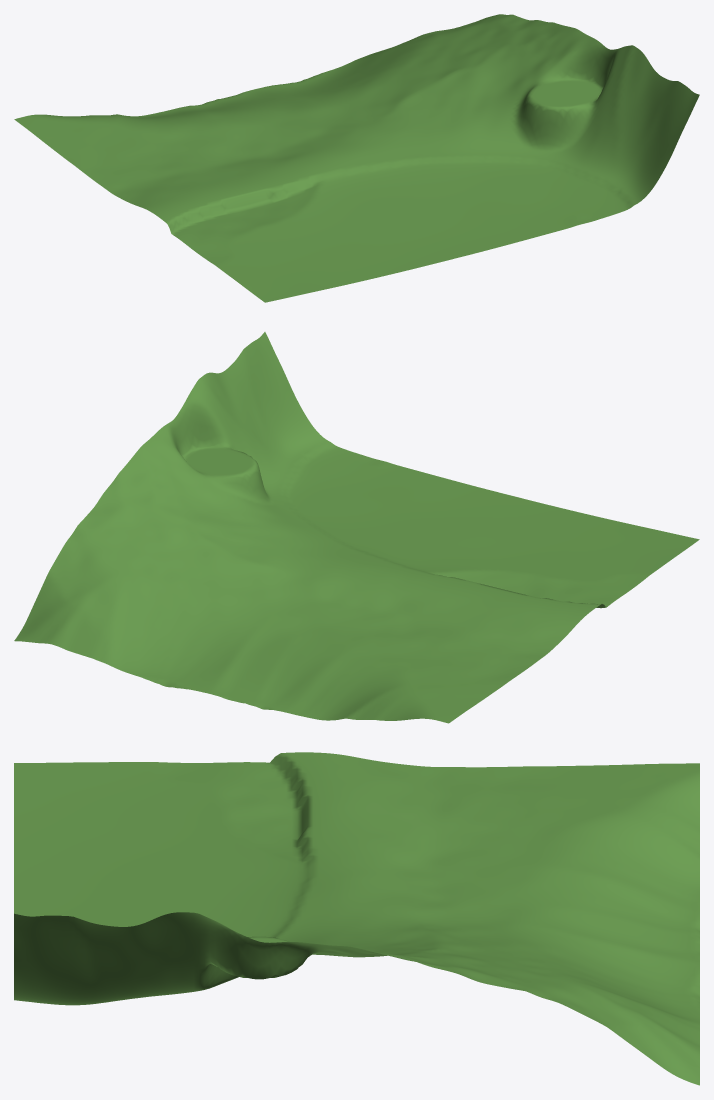
The model's file is SM_Terrain_04_01.fbx.
3 renders of one model, top to bottom at view 1: azimuth 30°, elevation 25°; view 2: azimuth 150°, elevation 25°; view 3: azimuth 270°, elevation 25°, orthographic. The views are drawn at different scales.
Parts seen in each view (by area): view 1: SM_Terrain_04_01; view 2: SM_Terrain_04_01; view 3: SM_Terrain_04_01.
Part boxes in pixels (box(x1,y1,x2,y2)): SM_Terrain_04_01: box(14, 14, 699, 302); SM_Terrain_04_01: box(14, 332, 699, 723); SM_Terrain_04_01: box(14, 752, 699, 1085).
Bounding box in the file's own units: 384 × 114 × 384.
